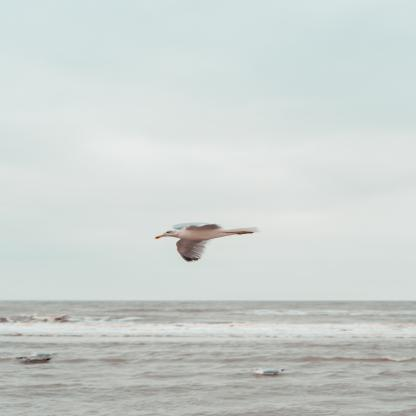bird: (155, 222, 261, 263)
